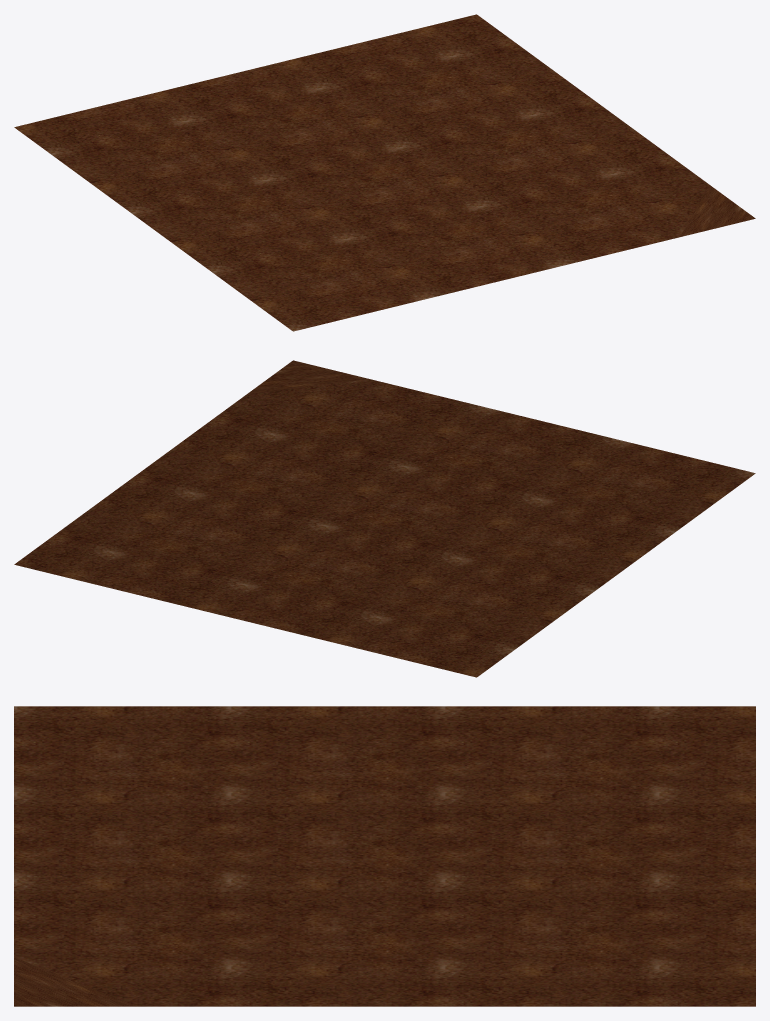
The model's file is ground02.glb.
3 renders of one model, top to bottom at view 1: azimuth 30°, elevation 25°; view 2: azimuth 150°, elevation 25°; view 3: azimuth 270°, elevation 25°, orthographic. The views are drawn at different scales.
Parts seen in each view (by area): view 1: ground02; view 2: ground02; view 3: ground02.
Boxes of the visible parts, box(x1,y1,x2,y2) form: ground02: box(14, 14, 755, 331); ground02: box(14, 360, 755, 677); ground02: box(14, 706, 755, 1006).
Bounding box in the file's own units: 15571 × 0 × 16265.
Materials: 1 (1 with a texture image).
